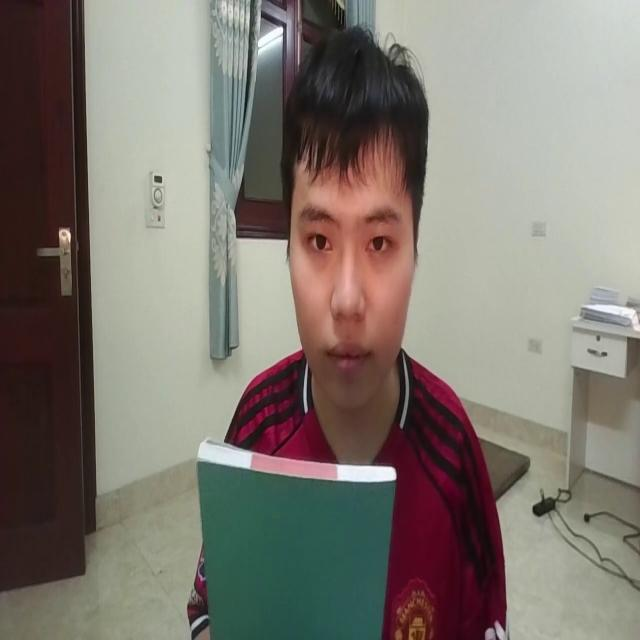book: (193, 426, 400, 640)
student: (178, 23, 504, 640)
